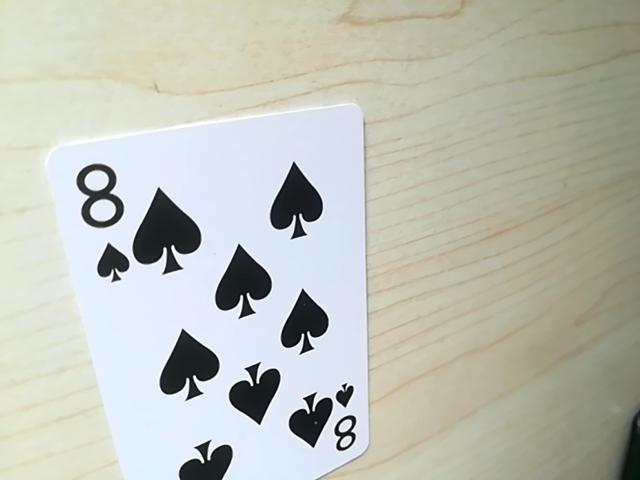ht 8: (68, 154, 139, 281), (322, 389, 365, 462)
